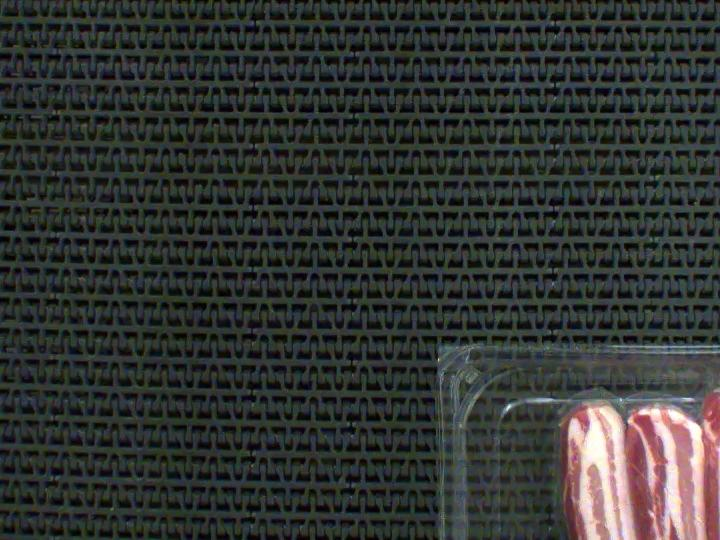unsealed: (538, 376, 720, 540)
